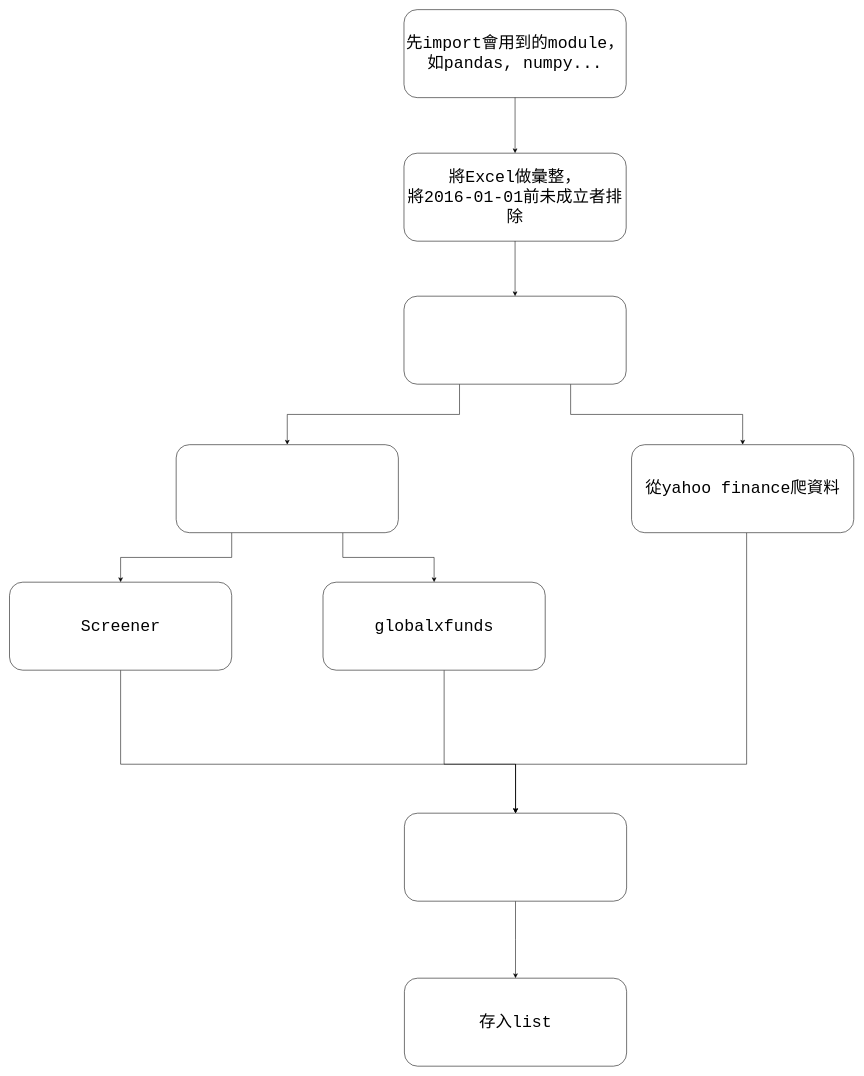
The diagram is 864 pixels wide and 1076 high, and some of its shapes have lost their labels. Here are the shapes that lost their labels. From the top down, the box of each, then its label:
(403, 296, 626, 384): 整理所有保存之ETF的Homepage
(176, 444, 398, 533): 非yahoo finance爬資料
(404, 813, 627, 901): 爬蟲
